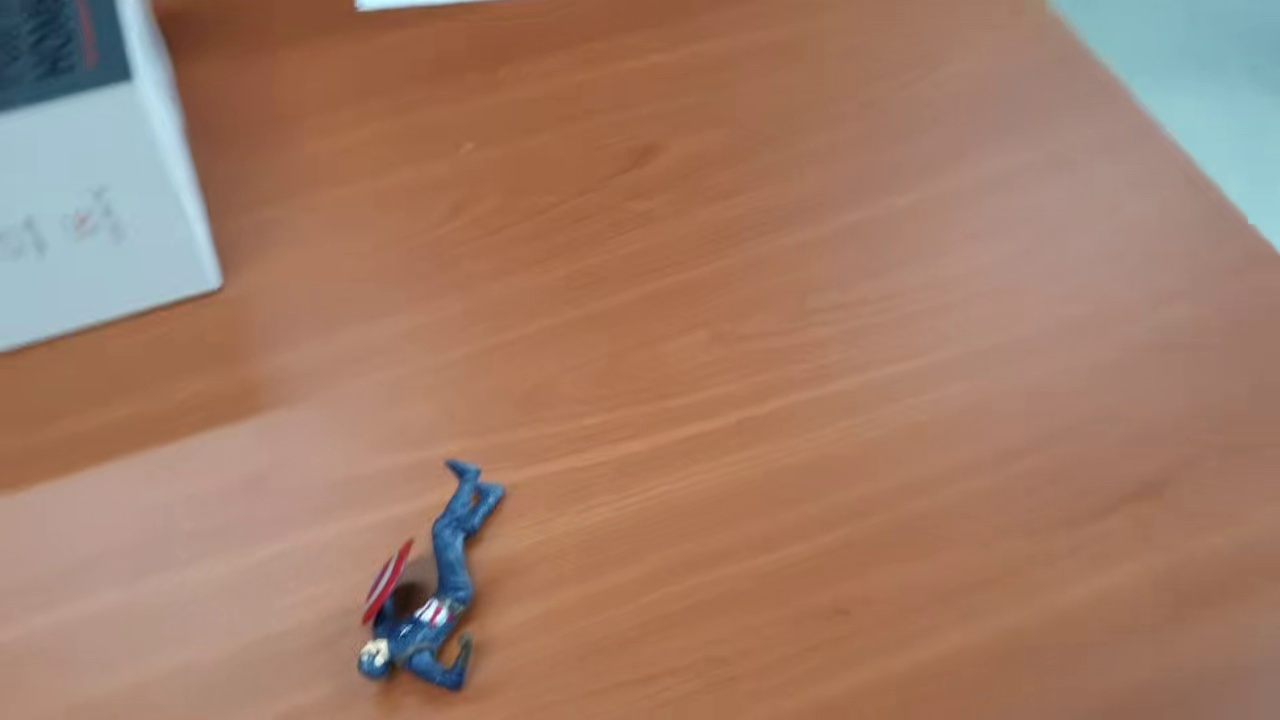people: (356, 452, 508, 696)
